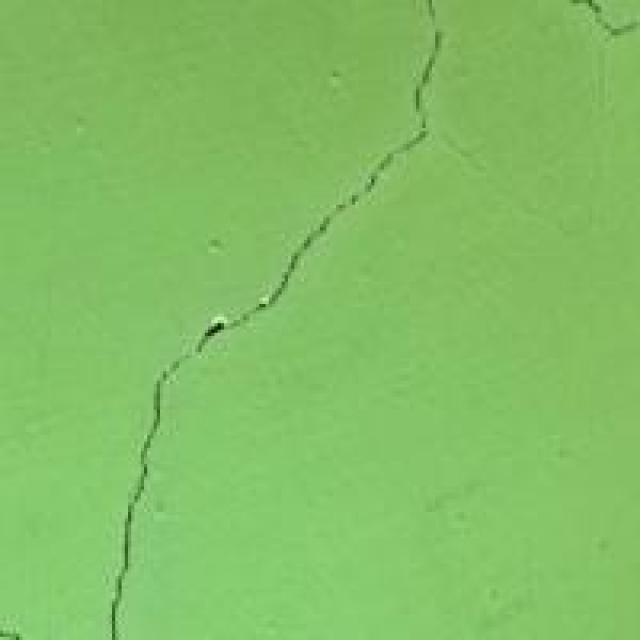Crack: (86, 3, 468, 637)
